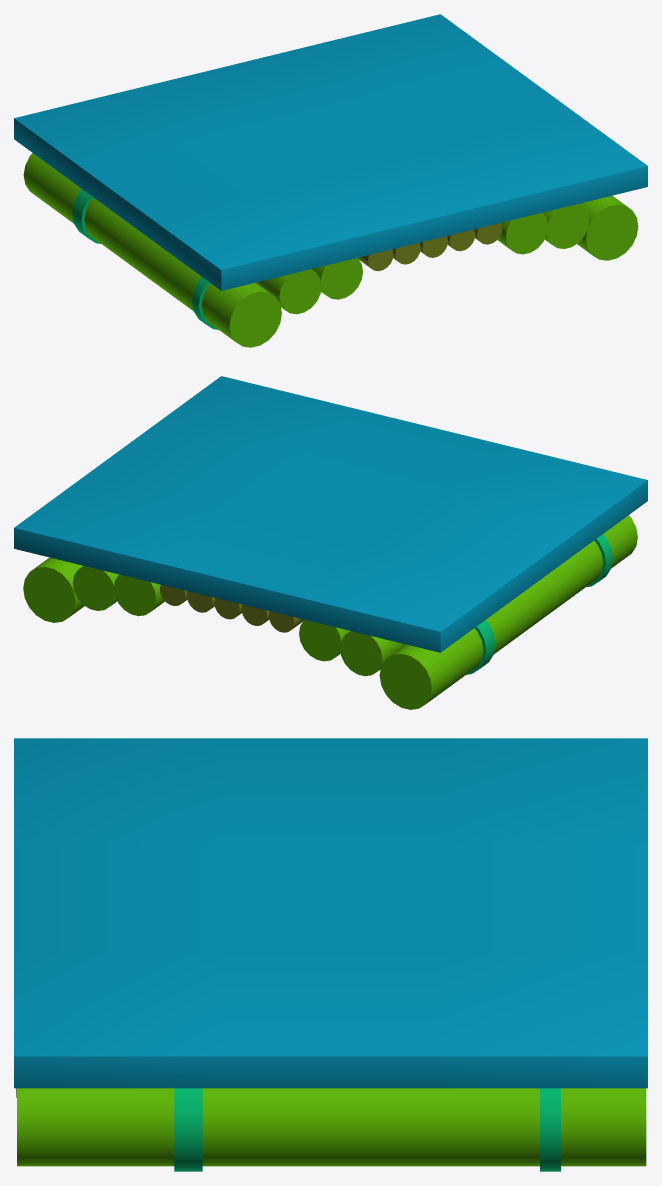
File: couloir sas roof.fbx
3 renders of one model, top to bottom at view 1: azimuth 30°, elevation 25°; view 2: azimuth 150°, elevation 25°; view 3: azimuth 270°, elevation 25°, orthographic. The views are drawn at different scales.
Visible parts, largest first — view 1: Box001; view 2: Box001; view 3: Box001.
Boxes of the visible parts, box(x1,y1,x2,y2) form: Box001: box(14, 14, 647, 347); Box001: box(14, 376, 647, 709); Box001: box(14, 738, 647, 1171).
Size of the model in its own units: 1475 by 294 by 1243.
